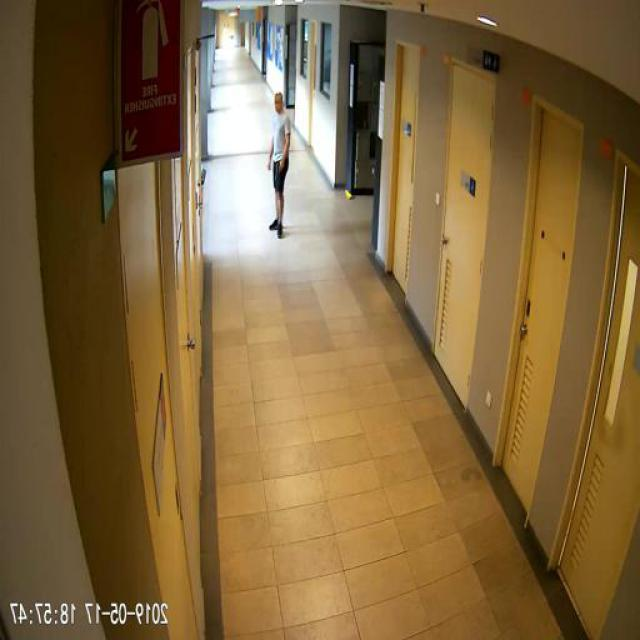Gun: (276, 159, 285, 179)
